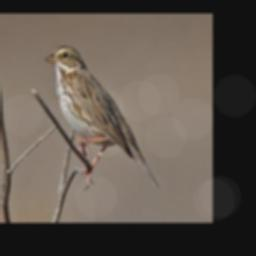Sparrow: (45, 44, 160, 191)
